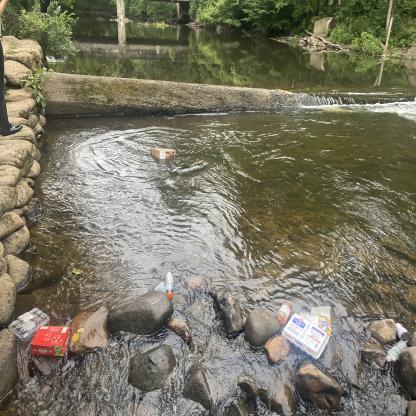trash: (277, 312, 335, 364), (29, 321, 76, 364), (6, 303, 52, 346), (298, 300, 334, 340), (379, 337, 410, 368), (268, 298, 295, 328), (148, 145, 180, 165), (388, 319, 413, 344), (162, 270, 174, 302), (152, 278, 168, 300)
